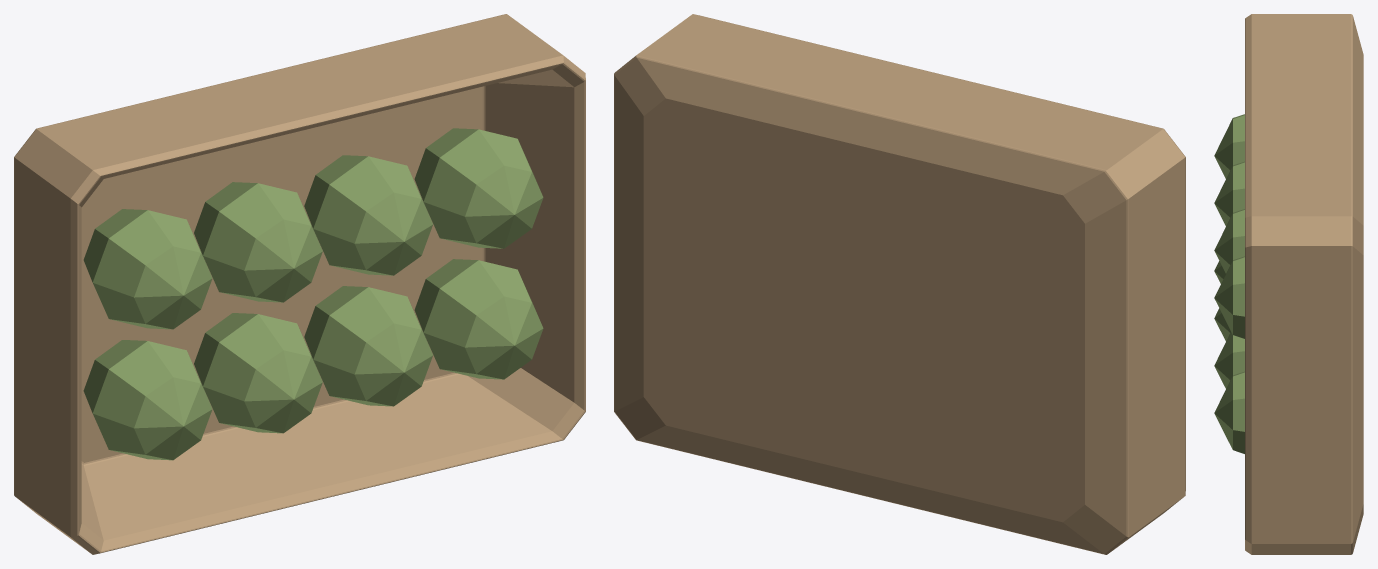
Rendered from brussels_sprouts.glb.
3 views of the same model, side by side, from view 1: azimuth 30°, elevation 25°; view 2: azimuth 150°, elevation 25°; view 3: azimuth 270°, elevation 25° (orthographic). The views are drawn at different scales.
Visible parts, largest first — view 1: brussels_sprouts; view 2: brussels_sprouts; view 3: brussels_sprouts.
Part boxes in pixels (box(x1,y1,x2,y2)): brussels_sprouts: box(14, 14, 585, 554); brussels_sprouts: box(614, 14, 1185, 554); brussels_sprouts: box(1214, 14, 1363, 554).
Bounding box in the file's own units: 0.14 × 0.1 × 0.04.
